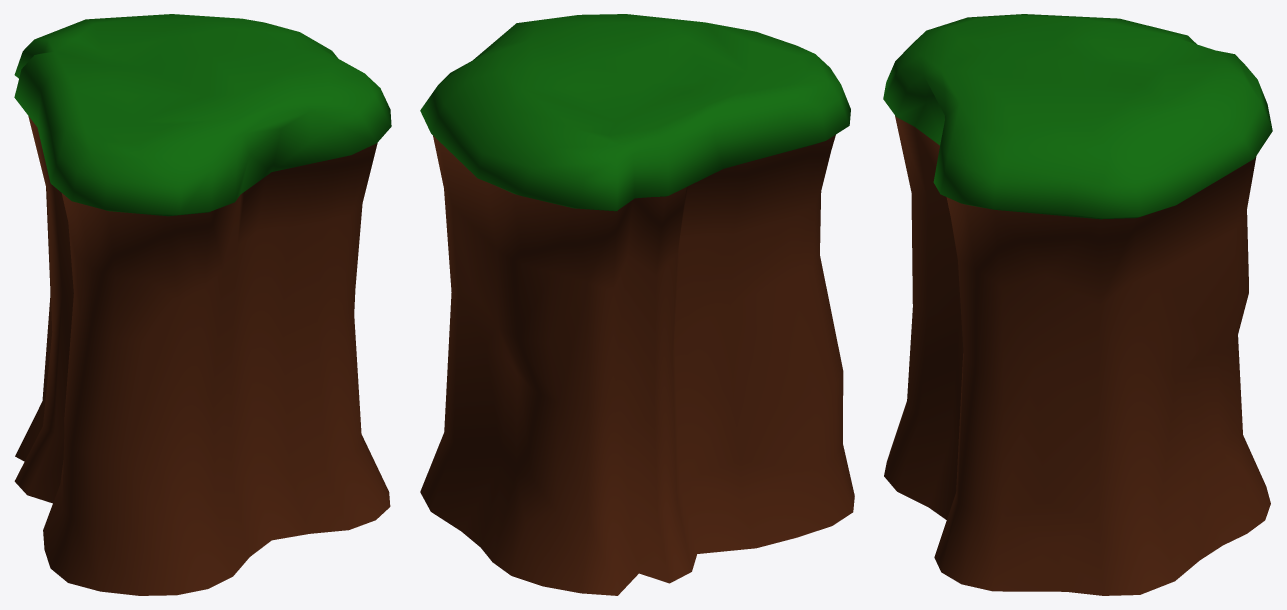
File: land_02.fbx
3 views of the same model, side by side, from view 1: azimuth 30°, elevation 25°; view 2: azimuth 150°, elevation 25°; view 3: azimuth 270°, elevation 25° (orthographic).
Parts seen in each view (by area): view 1: land_02; view 2: land_02; view 3: land_02.
Part boxes in pixels (bbox=[...]): land_02: bbox=[14, 14, 391, 595]; land_02: bbox=[420, 14, 854, 595]; land_02: bbox=[883, 14, 1272, 595].
Size of the model in its own units: 3.04 by 2.97 by 3.74.
